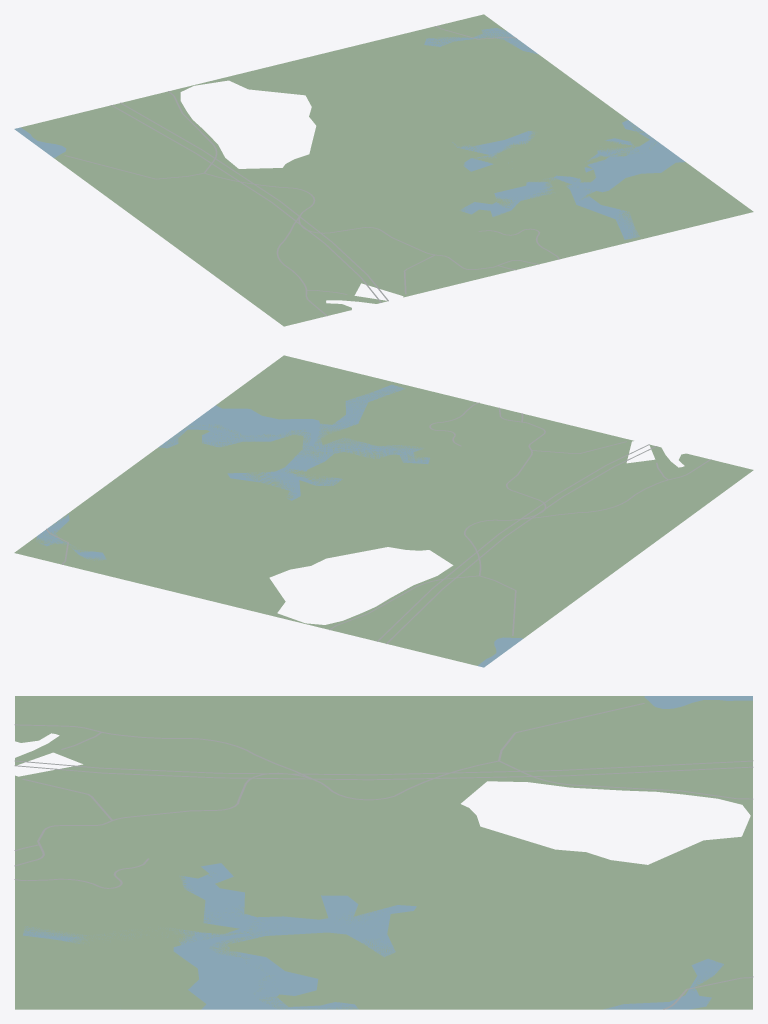
File: -4_9-known-coarse.glb
3 renders of one model, top to bottom at view 1: azimuth 30°, elevation 25°; view 2: azimuth 150°, elevation 25°; view 3: azimuth 270°, elevation 25°, orthographic. The views are drawn at different scales.
Size of the model in its own units: 1001 by 0.1 by 998.
